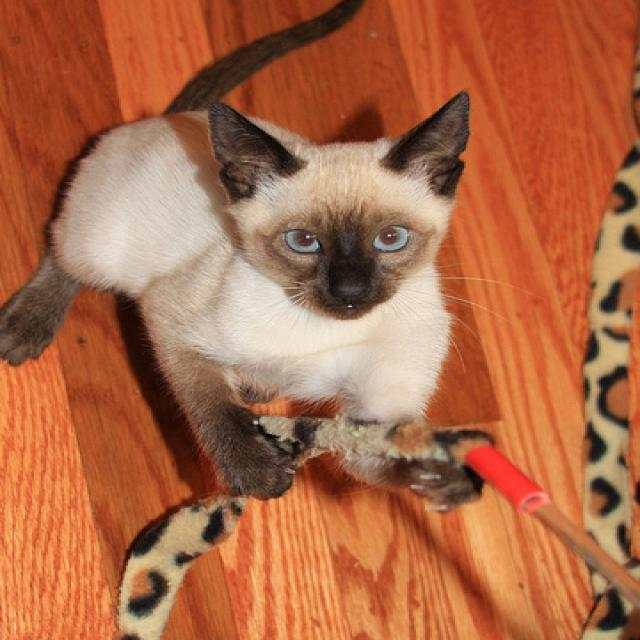Siamese: (0, 0, 498, 515)
